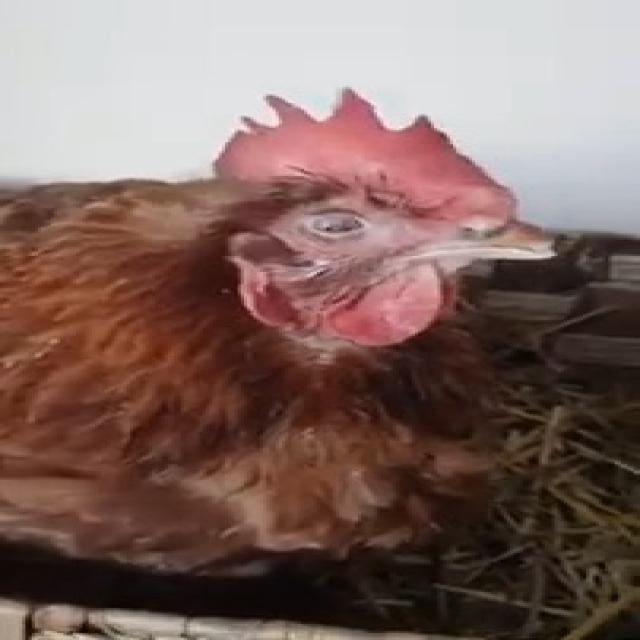Breathing: (0, 80, 637, 578)
